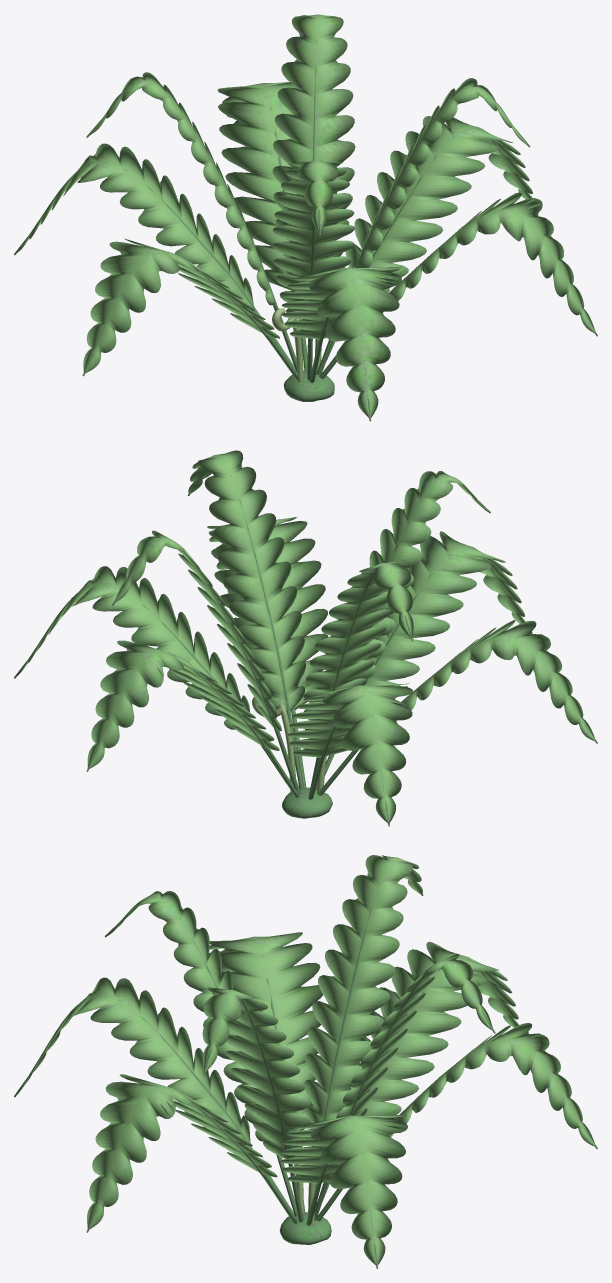
Rendered from fern.glb.
3 renders of one model, top to bottom at view 1: azimuth 30°, elevation 25°; view 2: azimuth 150°, elevation 25°; view 3: azimuth 270°, elevation 25°, orthographic. The views are drawn at different scales.
Visible parts, largest first — view 1: fern_body; view 2: fern_body; view 3: fern_body.
Part boxes in pixels (x1=…): fern_body: x1=14, y1=14, x2=597, y2=421; fern_body: x1=14, y1=450, x2=597, y2=826; fern_body: x1=14, y1=855, x2=597, y2=1268.
Size of the model in its own units: 1.41 by 0.7988 by 1.33.
Materials: 1 (1 with a texture image).
